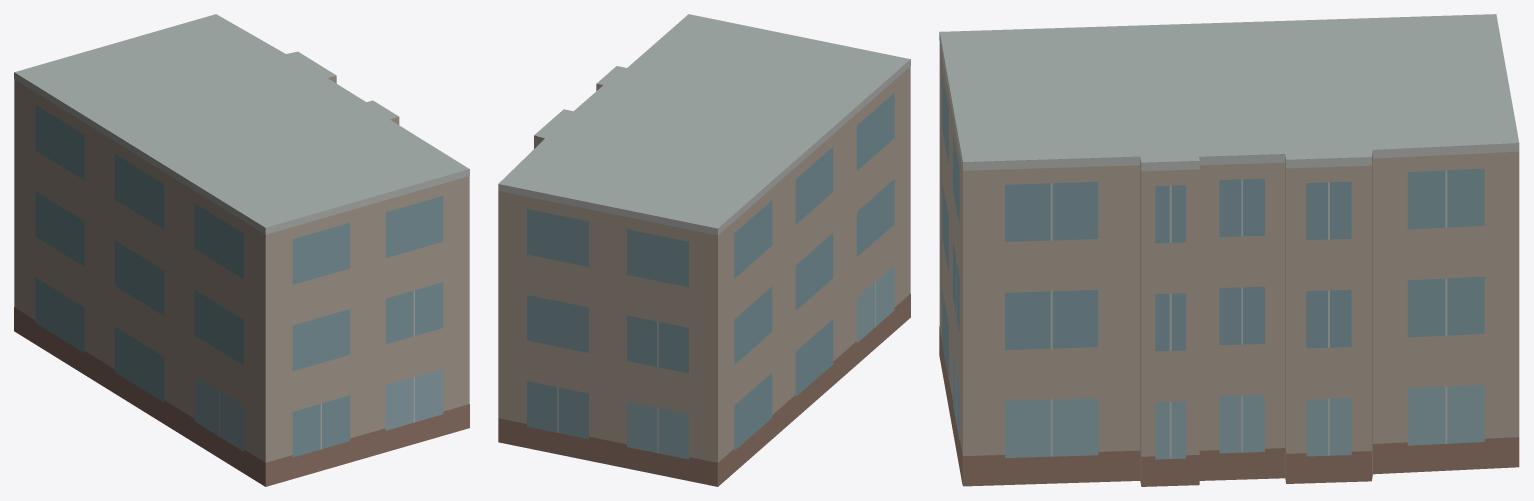
File: survey-upis-32699168.glb
The picture shows the model from 3 angles, left to right: view 1: azimuth 30°, elevation 25°; view 2: azimuth 150°, elevation 25°; view 3: azimuth 270°, elevation 25°; orthographic projection. The views are drawn at different scales.
Visible parts, largest first — view 1: survey-upis-32699168.tmp; view 2: survey-upis-32699168.tmp; view 3: survey-upis-32699168.tmp.
Part boxes in pixels (<box>): survey-upis-32699168.tmp: <box>14,14,469,486</box>; survey-upis-32699168.tmp: <box>498,14,910,486</box>; survey-upis-32699168.tmp: <box>939,14,1519,486</box>.
Size of the model in its own units: 9.01 by 9.15 by 14.84.
